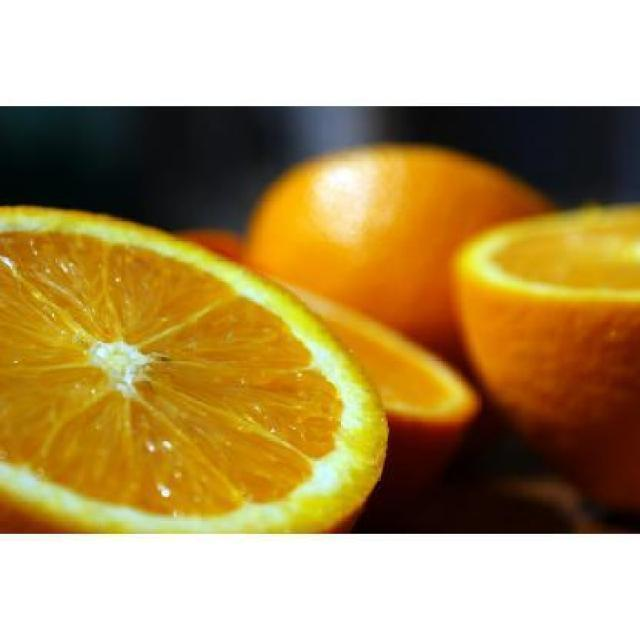Orange: (0, 203, 389, 529), (244, 144, 540, 346), (456, 204, 638, 507), (254, 268, 482, 483)
